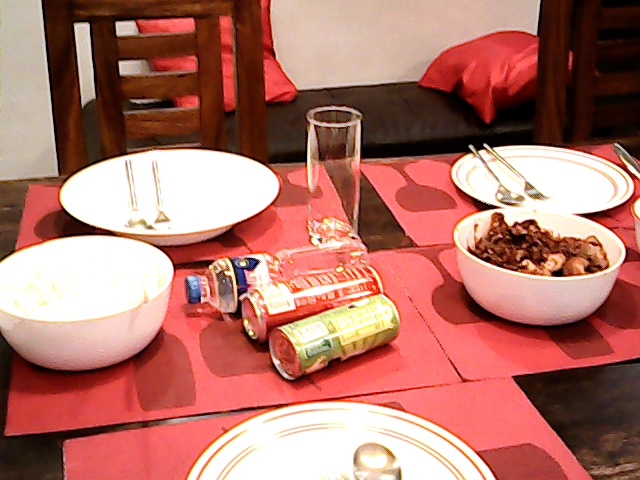Cola: (245, 266, 388, 312)
Pine Juice: (264, 310, 398, 384)
Summit Water: (183, 244, 278, 319)
